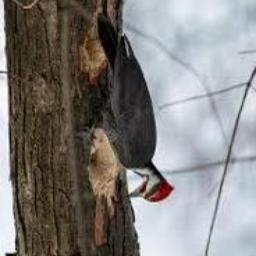Woodpecker: (83, 0, 174, 203)
